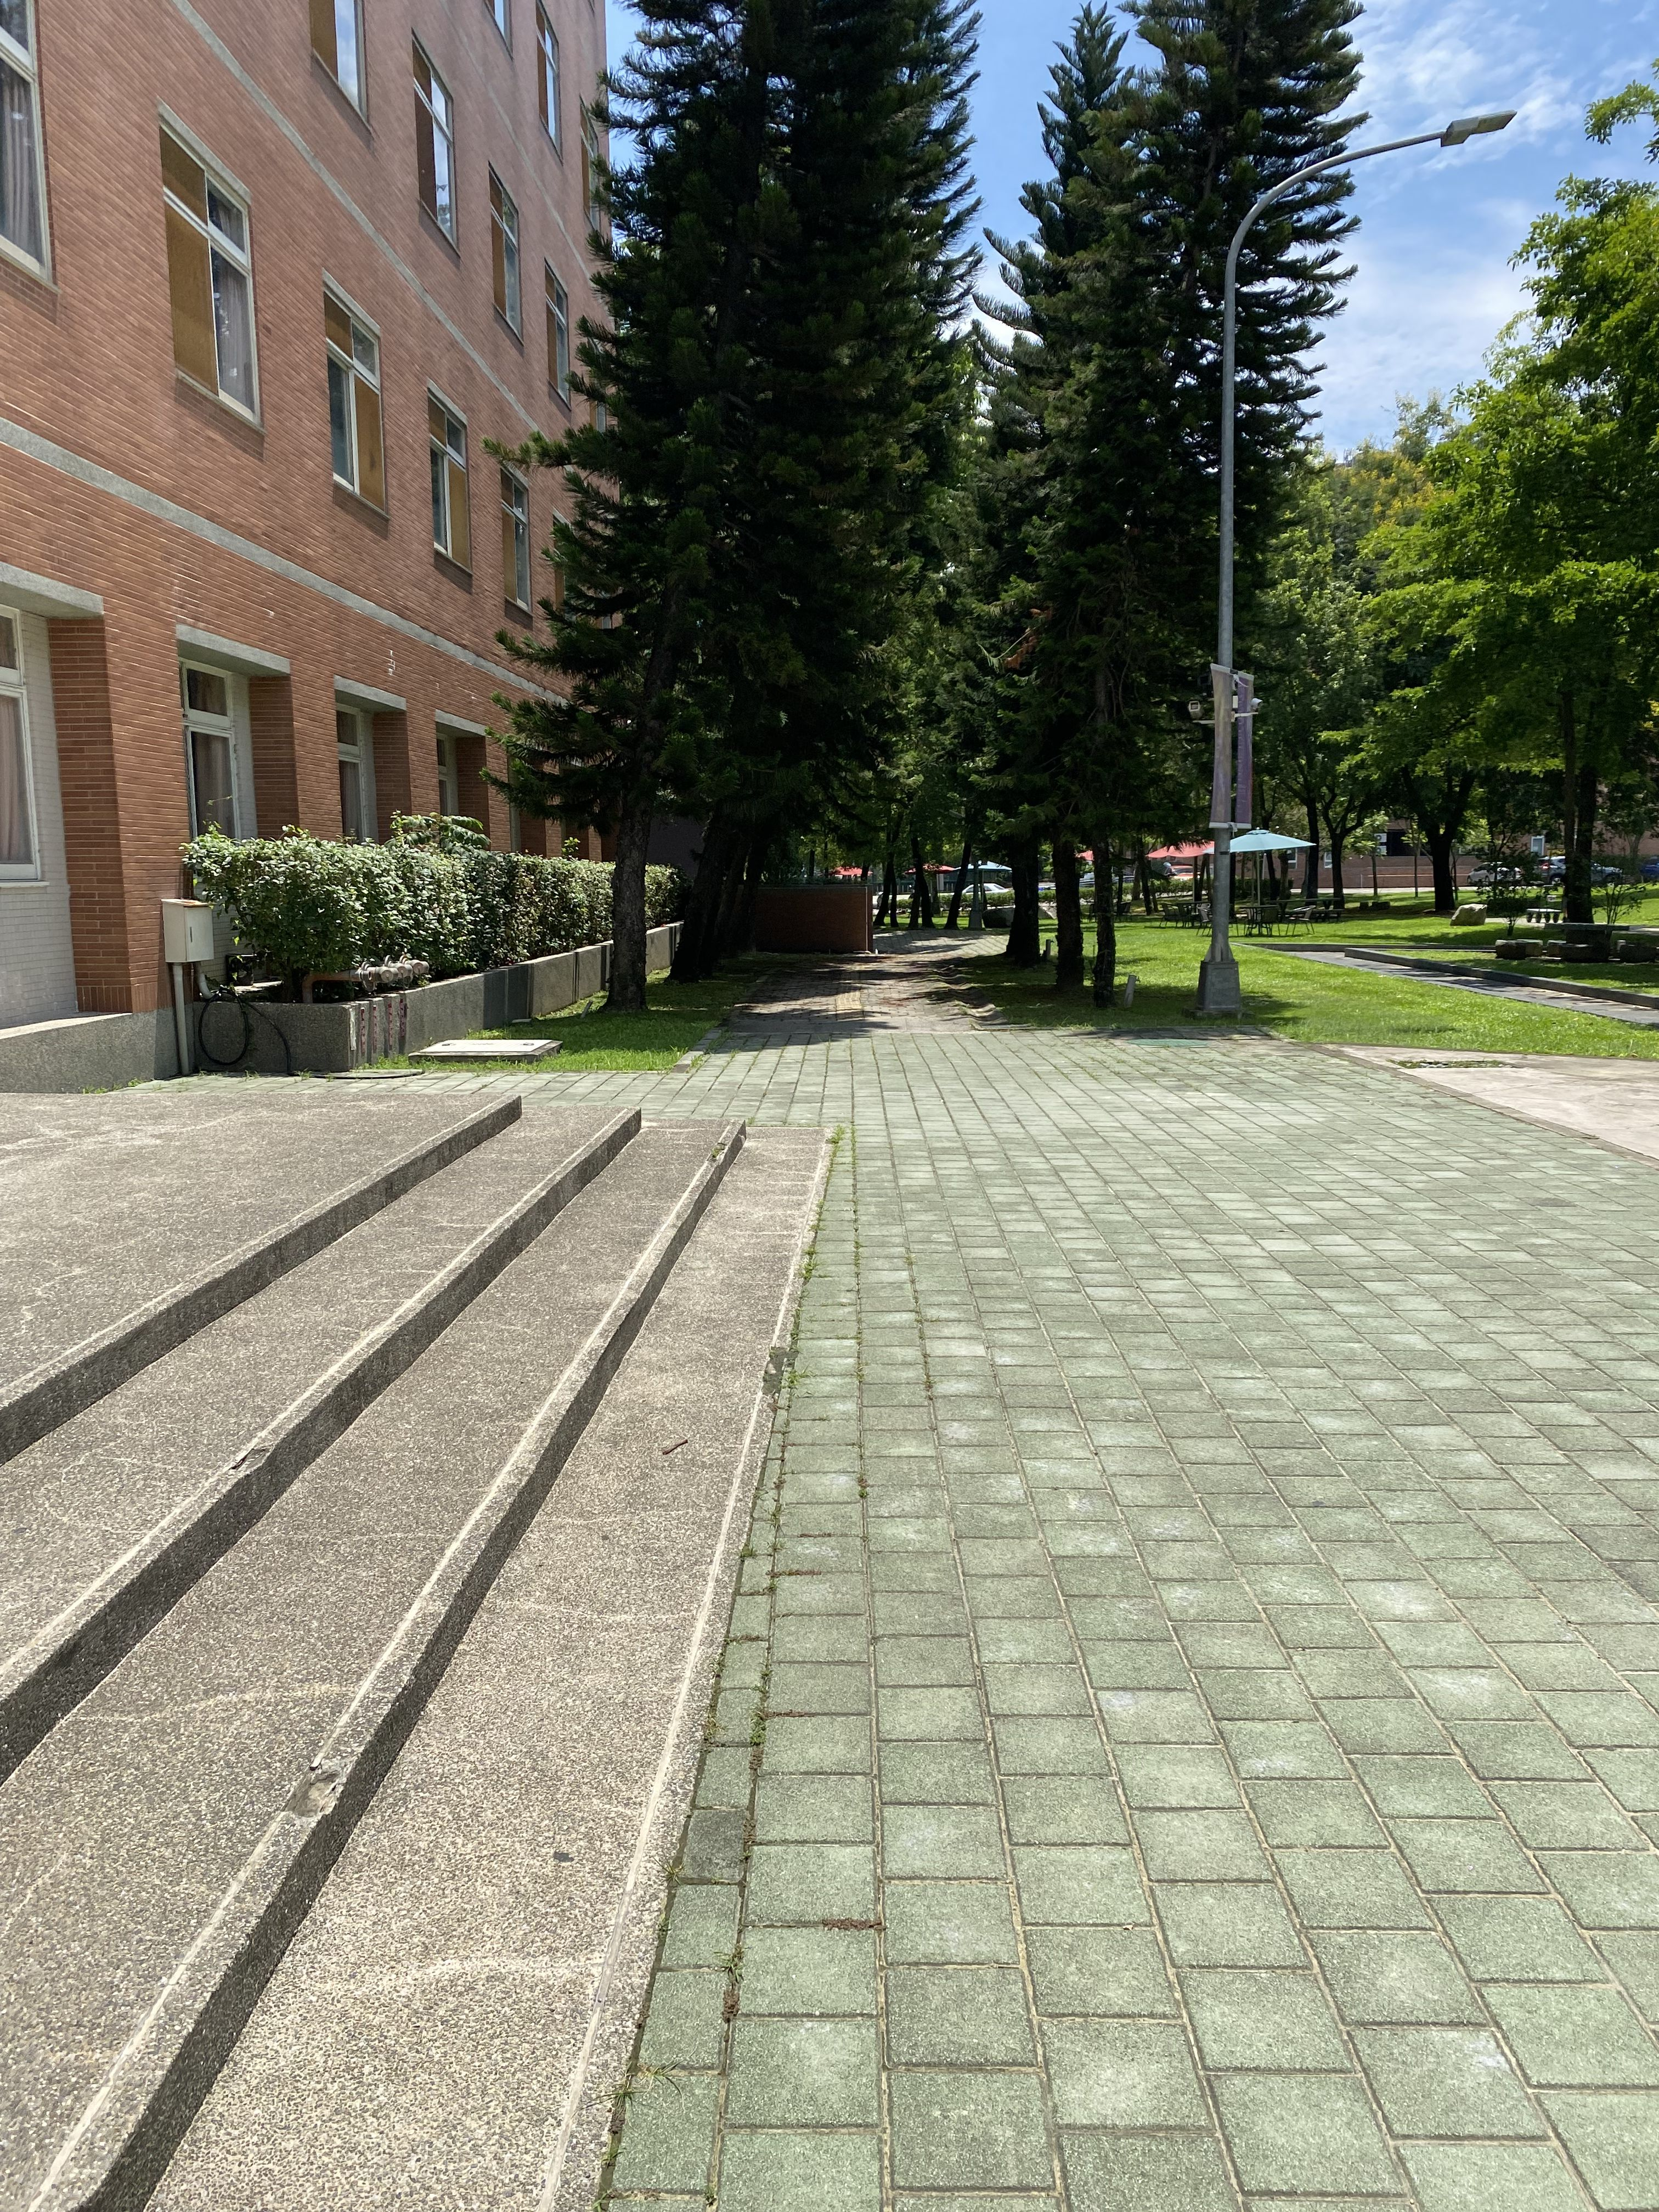sidewalk: (509, 888, 1659, 2212)
